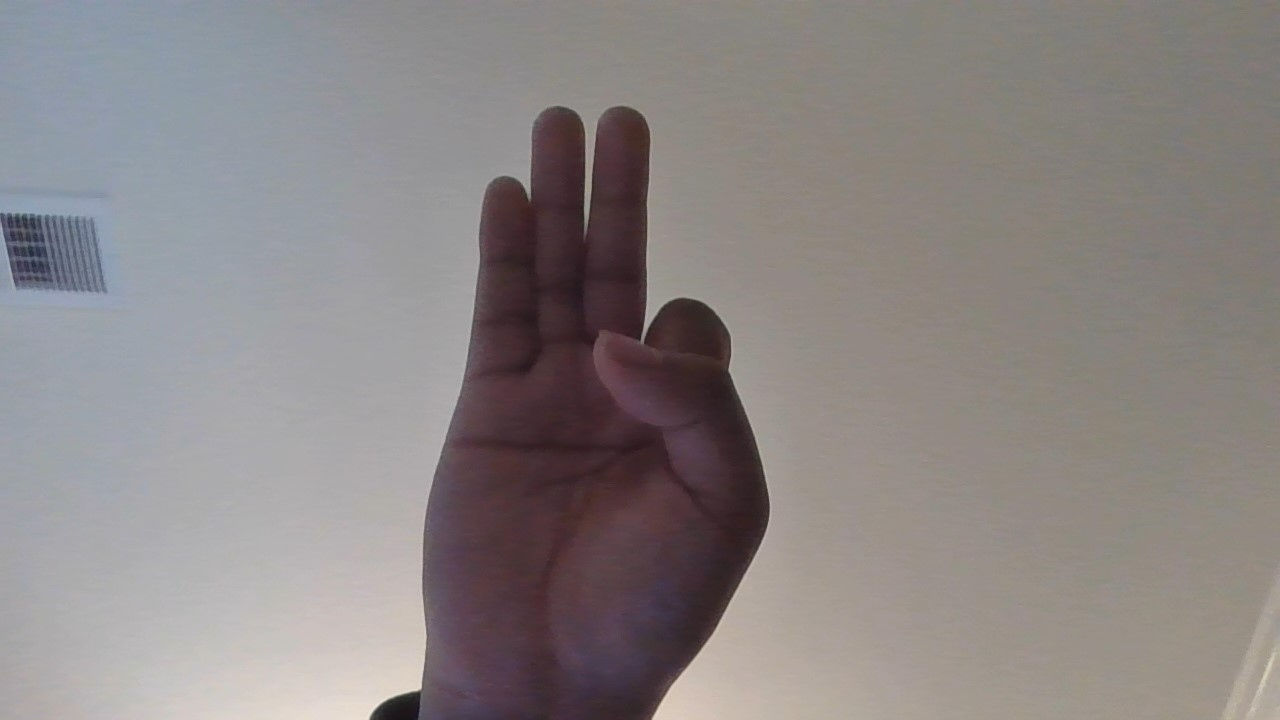f: (344, 95, 791, 720)
